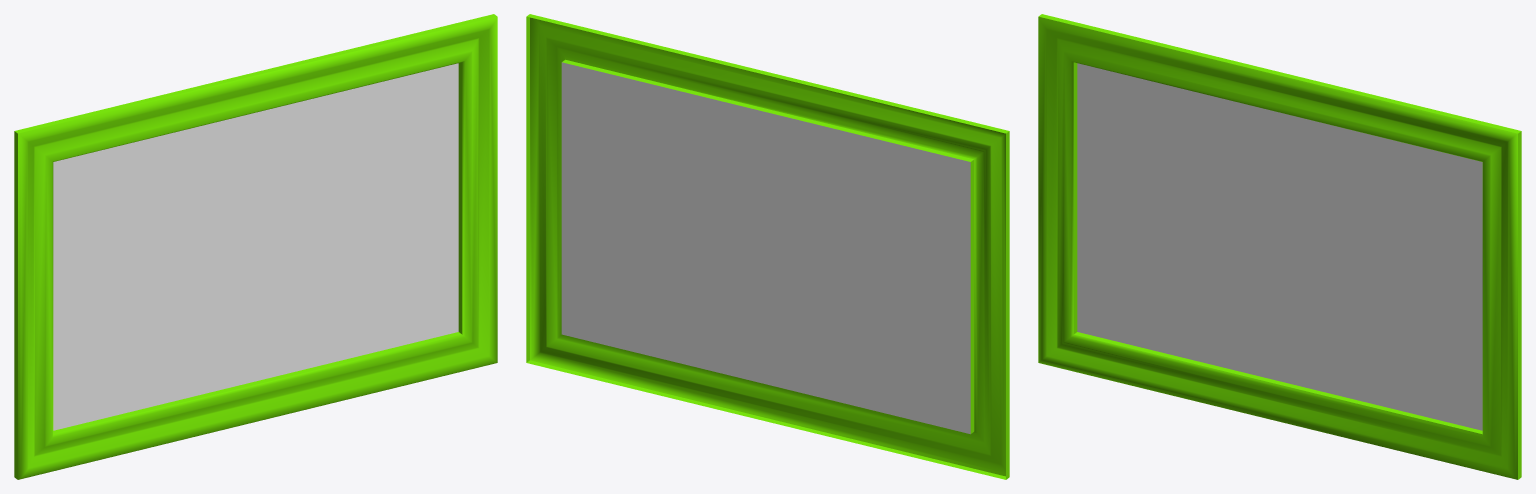
File: painting_5_mesh.fbx
3 renders of one model, left to right at view 1: azimuth 30°, elevation 25°; view 2: azimuth 150°, elevation 25°; view 3: azimuth 330°, elevation 25°, orthographic.
Visible parts, largest first — view 1: painting; view 2: painting; view 3: painting.
Boxes of the visible parts, bbox=[...] form: painting: bbox=[14, 14, 497, 479]; painting: bbox=[526, 14, 1009, 479]; painting: bbox=[1038, 14, 1521, 479].
Size of the model in its own units: 1.17 by 0.8091 by 0.02.
